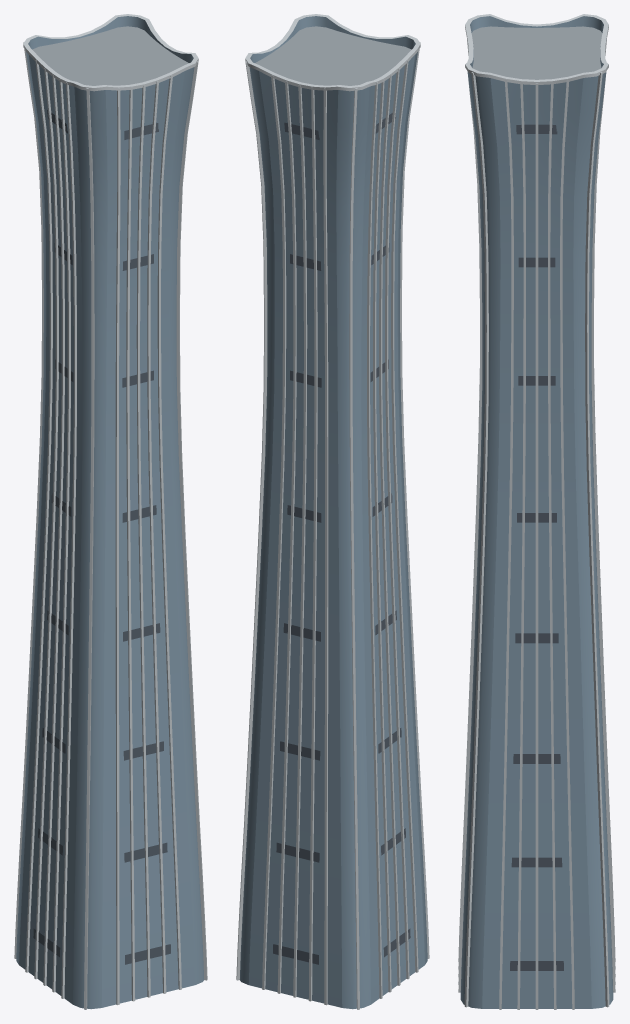
Rendered from beijing-citic-tower.glb.
3 renders of one model, left to right at view 1: azimuth 30°, elevation 25°; view 2: azimuth 150°, elevation 25°; view 3: azimuth 270°, elevation 25°, orthographic.
Visible parts, largest first — view 1: CITIC Tower; view 2: CITIC Tower; view 3: CITIC Tower.
Boxes of the visible parts, x1,y1,x2,y2 form: CITIC Tower: (14, 14, 207, 1009); CITIC Tower: (236, 14, 429, 1009); CITIC Tower: (458, 14, 615, 1009).
Size of the model in its own units: 80.6 by 528 by 80.6.
